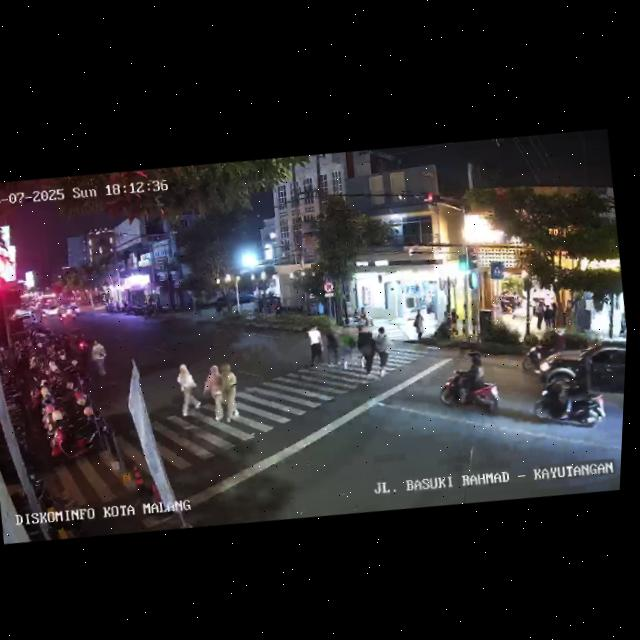car: (537, 337, 626, 427)
motorcycle: (525, 352, 612, 436), (433, 346, 507, 423)
person: (214, 361, 245, 427), (172, 359, 203, 423), (200, 364, 230, 426), (353, 326, 380, 377), (303, 323, 329, 369), (336, 326, 360, 374), (371, 324, 394, 374), (86, 336, 112, 380), (321, 327, 343, 370), (542, 299, 558, 331), (411, 310, 426, 342), (532, 298, 546, 332), (616, 312, 628, 338)
